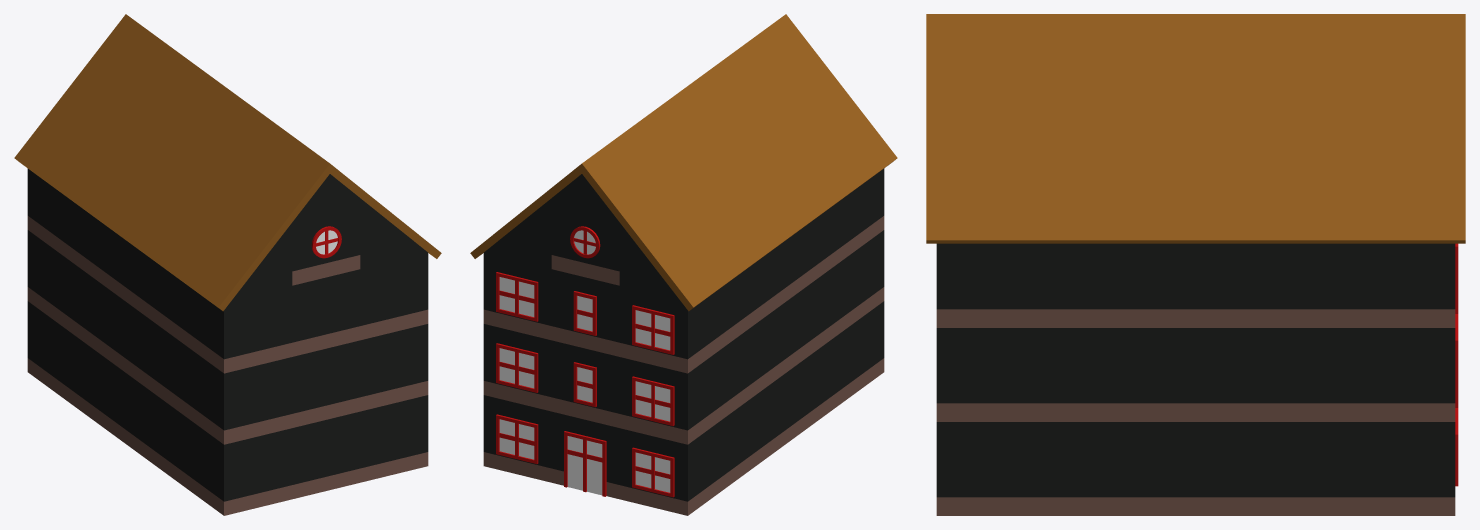
Rendered from generic_house_3.fbx.
The picture shows the model from 3 angles, left to right: view 1: azimuth 30°, elevation 25°; view 2: azimuth 150°, elevation 25°; view 3: azimuth 270°, elevation 25°; orthographic projection. The views are drawn at different scales.
Parts seen in each view (by area): view 1: mergedBlocks; view 2: mergedBlocks; view 3: mergedBlocks.
Part boxes in pixels (x1,y1,x2,y2): mergedBlocks: (14,14,441,515); mergedBlocks: (470,14,897,515); mergedBlocks: (926,14,1465,515).
Bounding box in the file's own units: 32.83 × 46.41 × 52.
